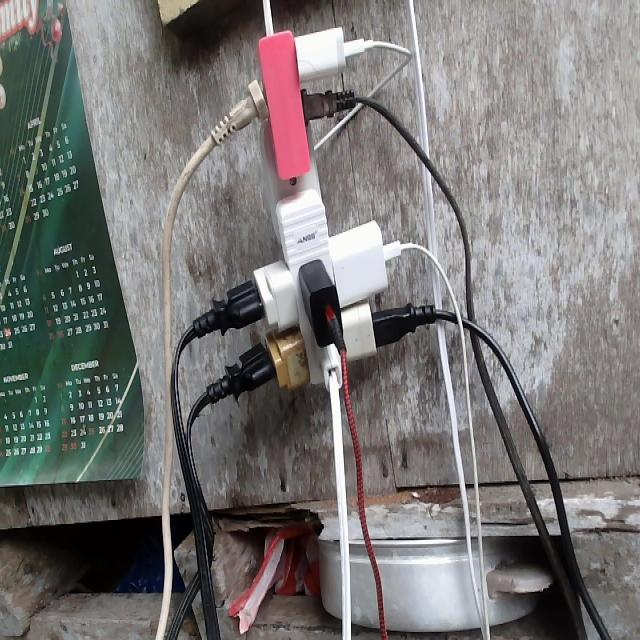-: (159, 25, 439, 399)
